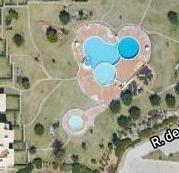pool: (83, 36, 140, 85)
